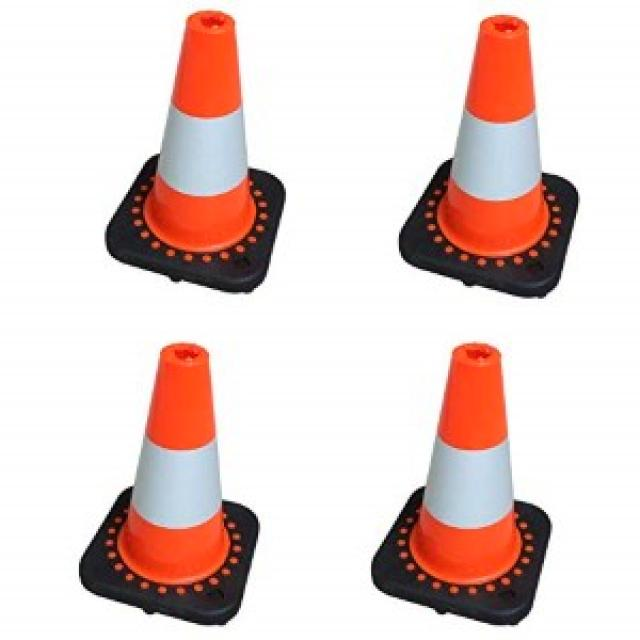cone: (102, 6, 284, 292), (369, 339, 550, 625), (397, 10, 576, 296), (77, 339, 256, 623)
